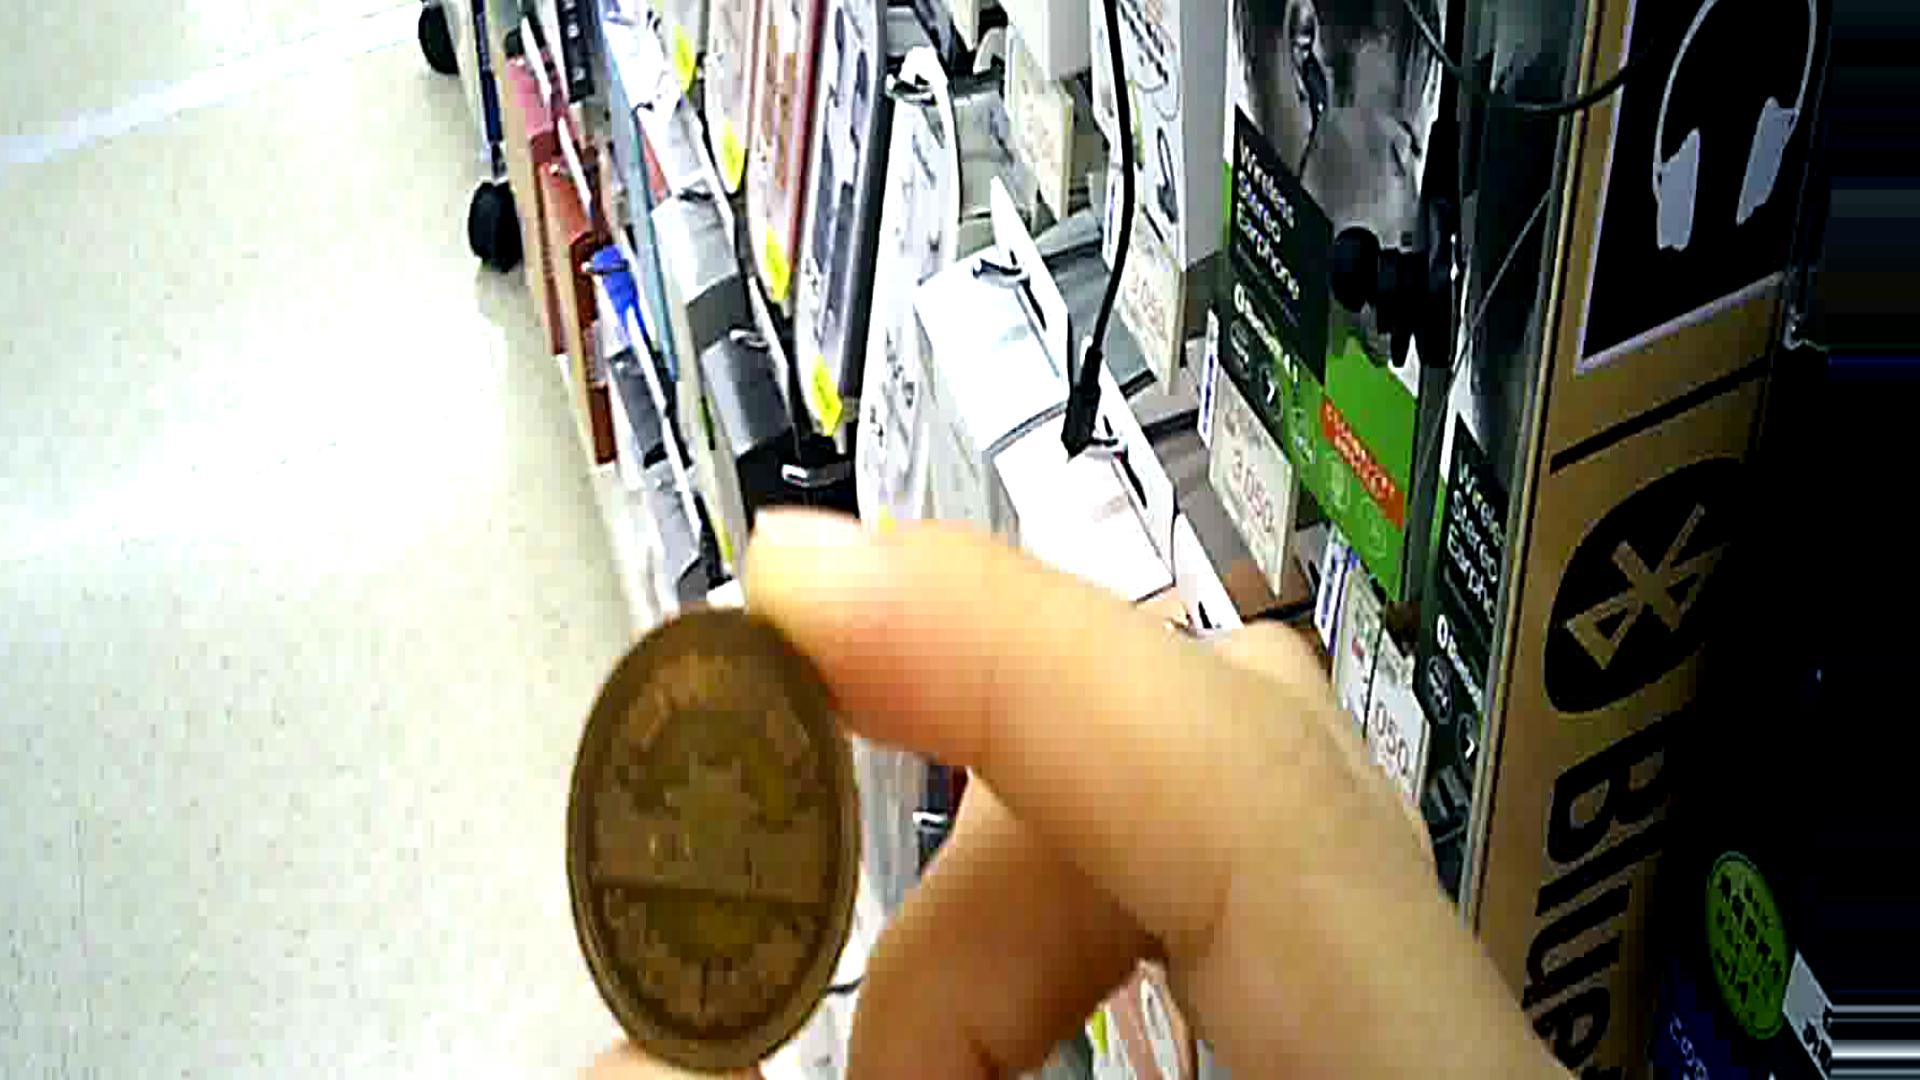10 Yen: (527, 597, 858, 1071)
